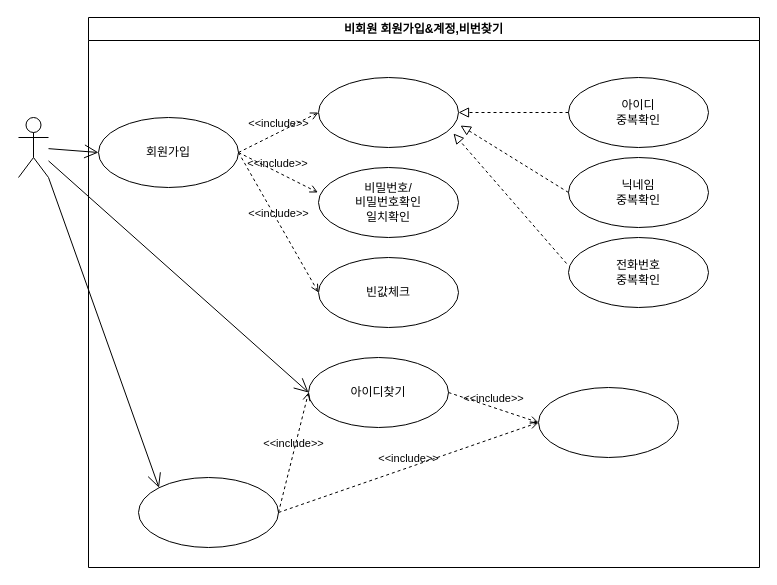
Some shapes in this 777 by 585 pixel diagram are drawn without their labels. Here are the shapes that lost their labels. From the top down, the centre of each, then its label:
At pixel 388 112: "중복확인".
At pixel 33 147: "비회원".
At pixel 608 422: "전화번호 인증".
At pixel 208 512: "비밀번호찾기".
